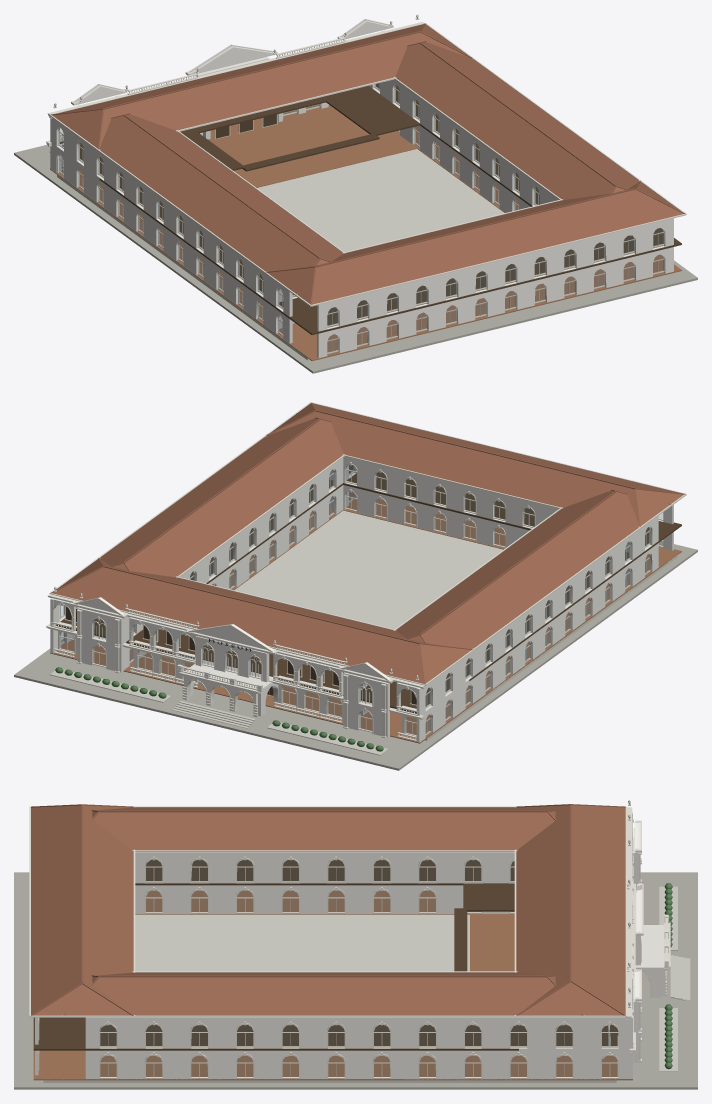
File: map.glb
The picture shows the model from 3 angles, top to bottom: view 1: azimuth 30°, elevation 25°; view 2: azimuth 150°, elevation 25°; view 3: azimuth 270°, elevation 25°; orthographic projection. The views are drawn at different scales.
Bounding box in the file's own units: 78 × 15.69 × 105.
